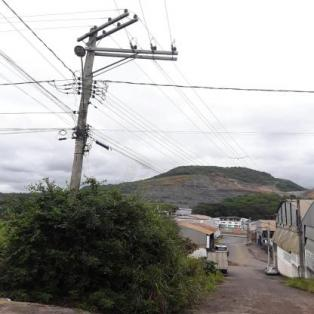Poste: (57, 25, 102, 195)
